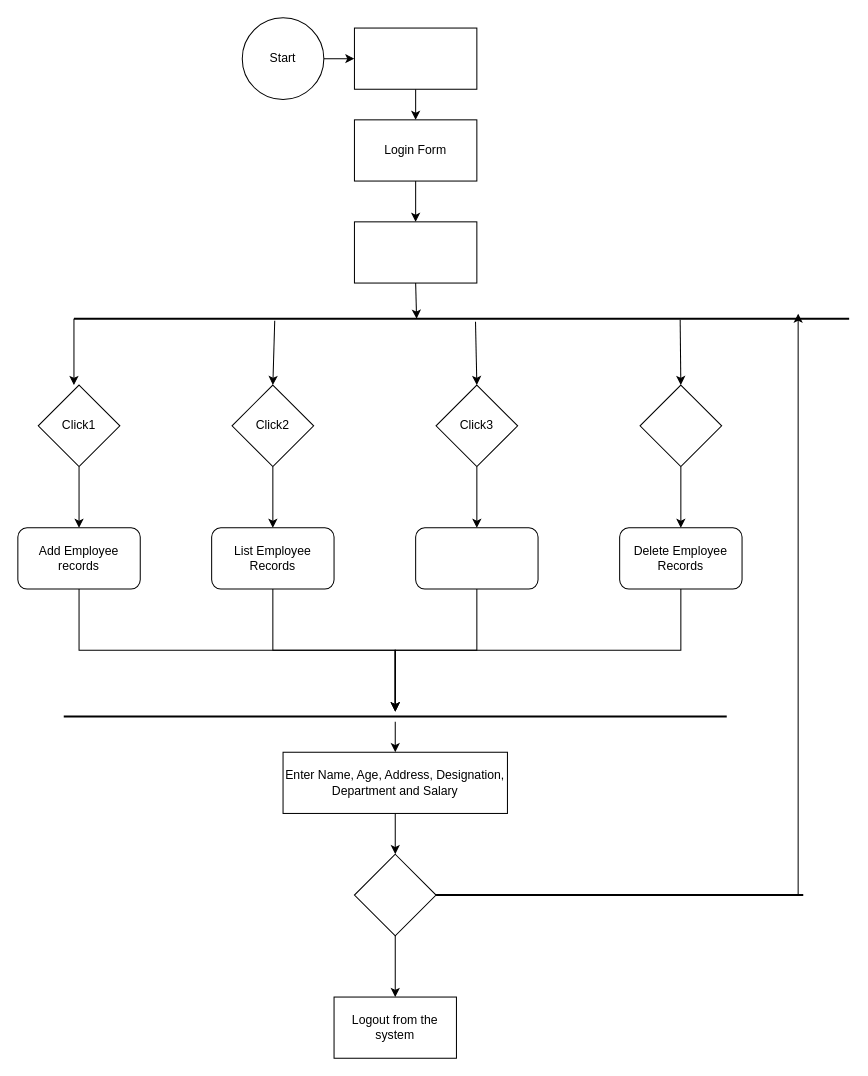
This 868x1076 diagram has some shape labels left out. The centre of each missing label's shape, as x and y in pixels:
"Click4" goes at (680,425).
"Click5" goes at (394,894).
"Enter the correct Terminal command" goes at (415,58).
"Enter User name and password" goes at (415,252).
"Modify Employee Records" goes at (476,558).
